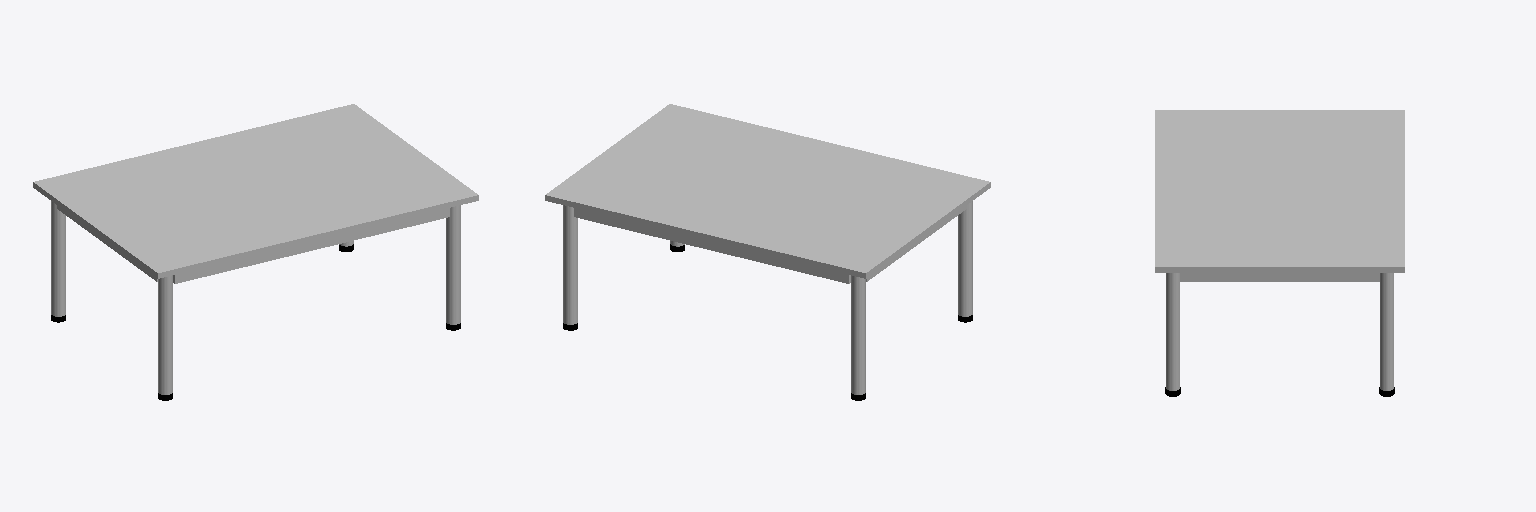
The model's file is Родос.obj.
3 renders of one model, left to right at view 1: azimuth 30°, elevation 25°; view 2: azimuth 150°, elevation 25°; view 3: azimuth 270°, elevation 25°, orthographic.
Parts seen in each view (by area): view 1: Cube, Cylinder, Cube.004; view 2: Cube, Cylinder, Cube.004; view 3: Cube, Cylinder, Cube.004.
Boxes of the visible parts, <box> form: Cube: <box>33,104,478,278</box>; Cylinder: <box>51,201,460,394</box>; Cube.004: <box>57,206,449,283</box>; Cube: <box>545,104,990,278</box>; Cylinder: <box>563,201,972,394</box>; Cube.004: <box>574,206,966,283</box>; Cube: <box>1155,110,1404,272</box>; Cylinder: <box>1166,273,1393,390</box>; Cube.004: <box>1180,273,1379,281</box>.
Size of the model in its own units: 1.9 by 0.7632 by 1.28.